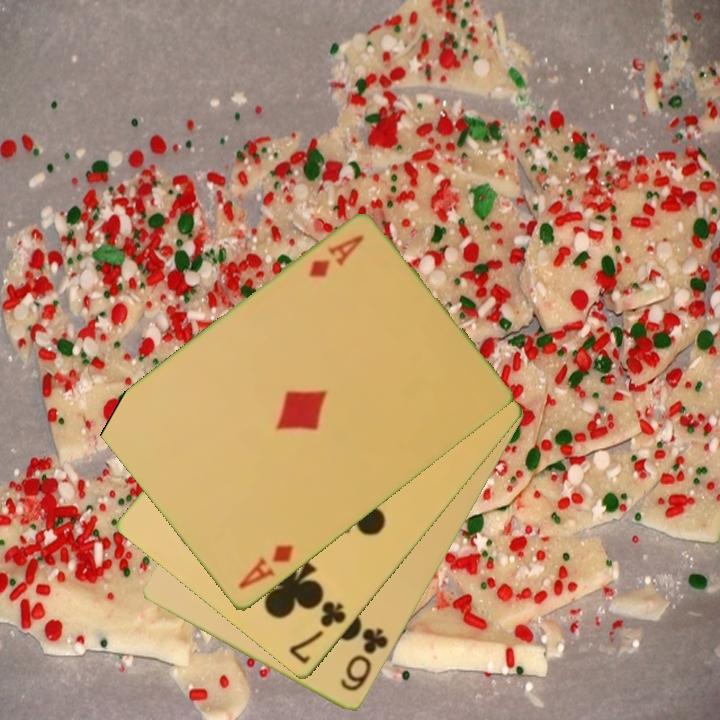6c: (336, 625, 392, 695)
7c: (285, 598, 350, 668)
Ad: (305, 231, 368, 282), (235, 541, 296, 593)
